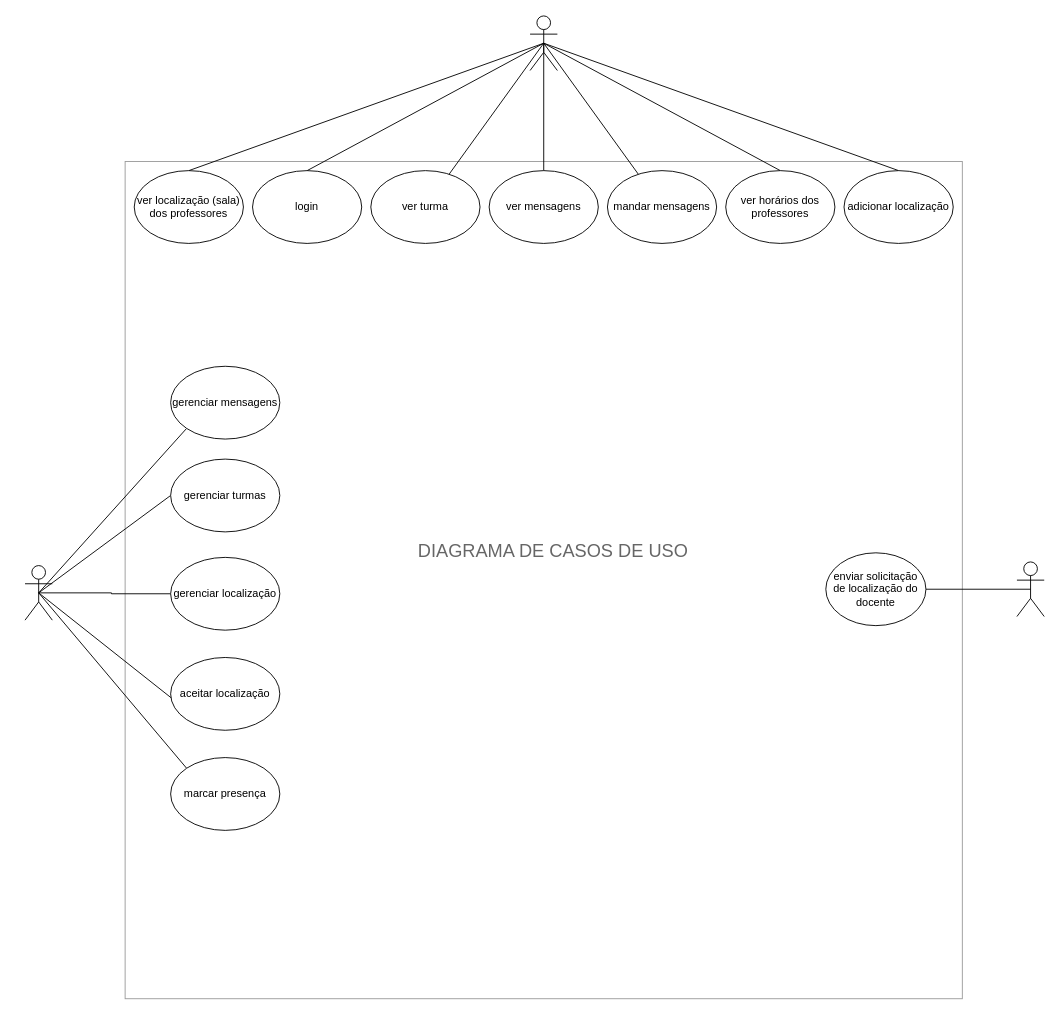
Image size: 1060x1015. Some labels were removed from this diagram. The shapes that lost their labels are listed below. From the top down, each one's centre as x and y in pixels, then its label:
the point at 543,43: Usuário
the point at 38,592: Professor
the point at 1030,589: Aluno
